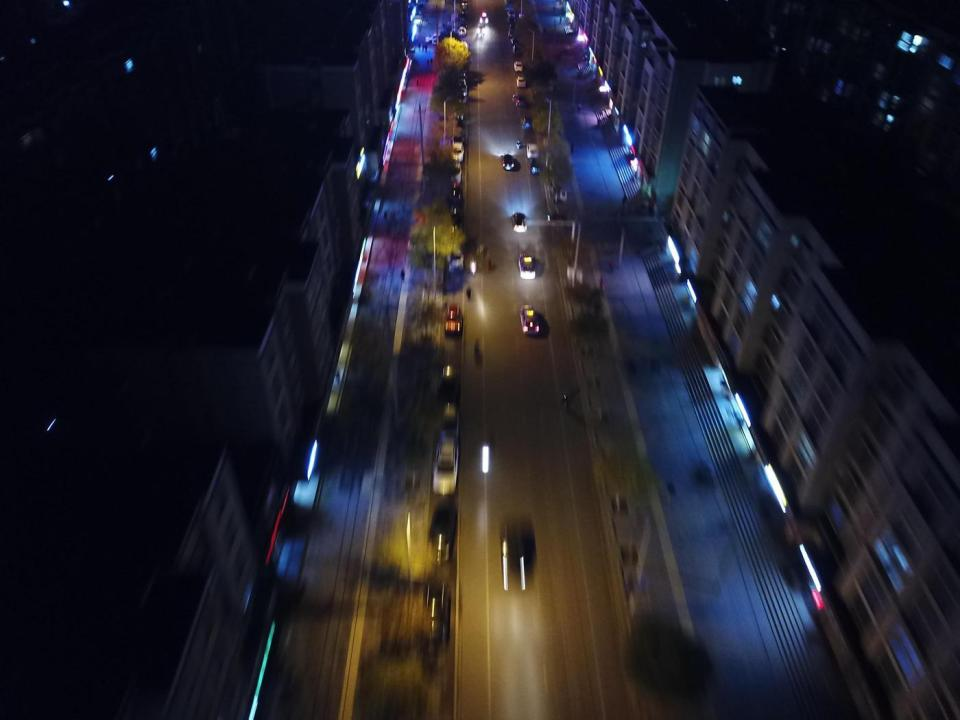bus: (504, 0, 513, 11)
car: (416, 581, 449, 677), (500, 514, 535, 590), (428, 498, 456, 565), (434, 440, 457, 494), (437, 402, 460, 442), (439, 365, 460, 401), (443, 303, 463, 335), (520, 304, 539, 336), (518, 252, 534, 280), (447, 246, 464, 272), (450, 223, 466, 245), (446, 162, 461, 182), (449, 141, 464, 161), (448, 181, 462, 202), (512, 212, 526, 232), (449, 204, 462, 224), (425, 31, 445, 44), (452, 102, 464, 120), (449, 128, 464, 142), (502, 154, 514, 170), (527, 142, 539, 158), (452, 90, 466, 101), (522, 116, 533, 129), (530, 160, 541, 173), (455, 79, 467, 90), (513, 93, 527, 102), (517, 75, 526, 88), (457, 66, 466, 77), (513, 44, 522, 55), (480, 12, 488, 24), (514, 60, 522, 72), (516, 98, 526, 107), (459, 41, 467, 52), (458, 26, 466, 36), (459, 11, 467, 21), (458, 21, 468, 28), (477, 25, 484, 34), (508, 9, 515, 18), (512, 37, 520, 44), (509, 29, 516, 37), (509, 20, 516, 28), (462, 0, 467, 5)
